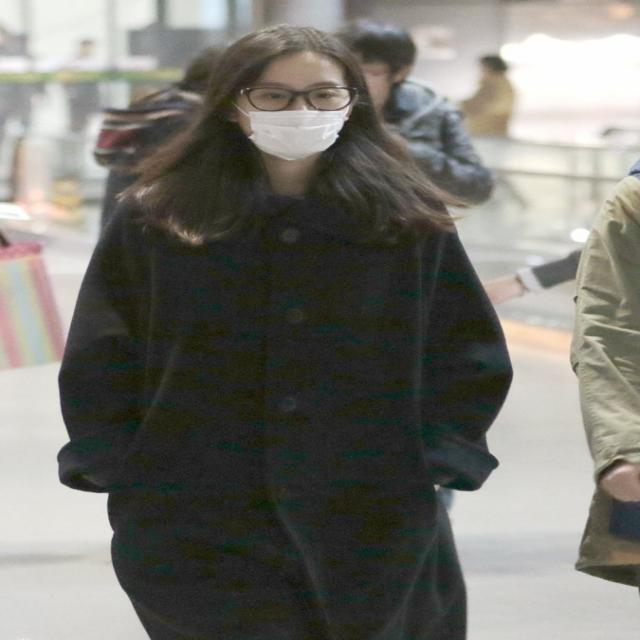mask: (246, 53, 349, 161)
